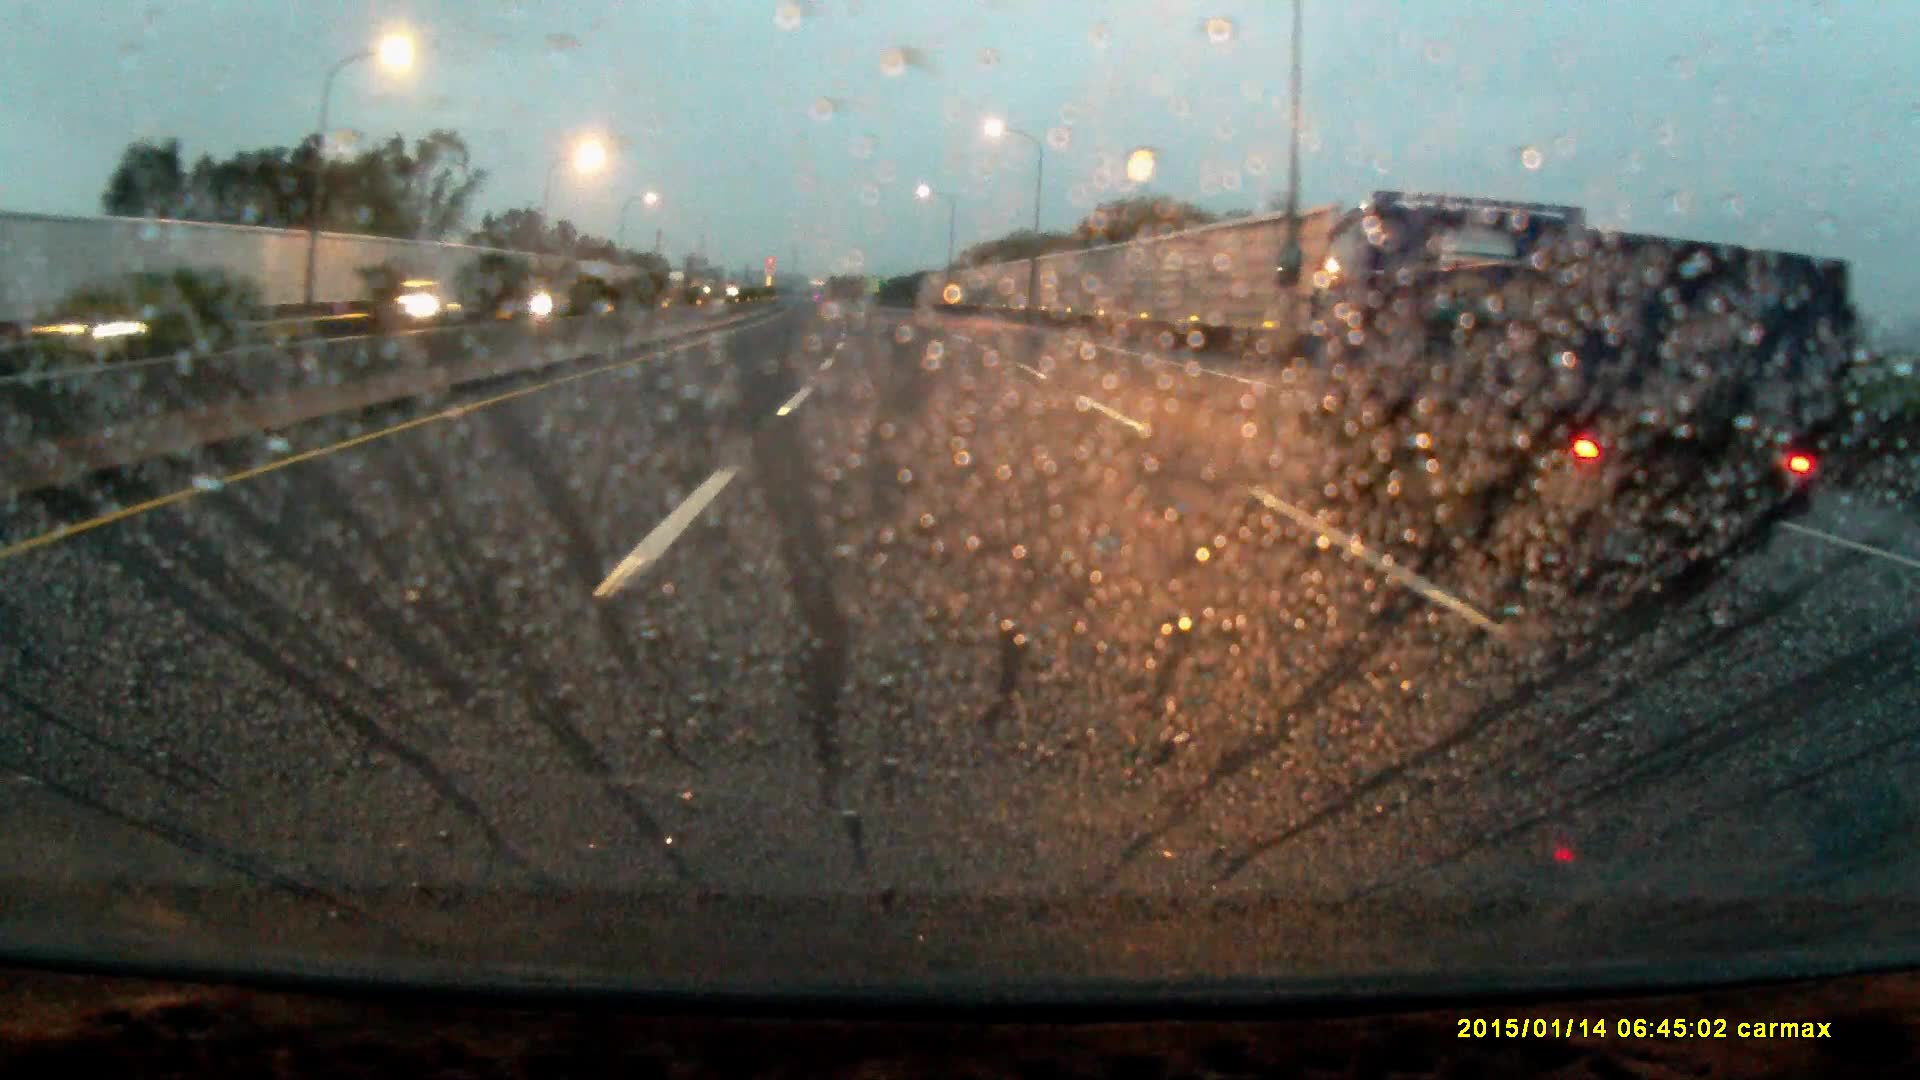vehicle: (1269, 196, 1830, 582), (66, 270, 262, 342), (498, 272, 571, 316), (384, 280, 456, 318)
